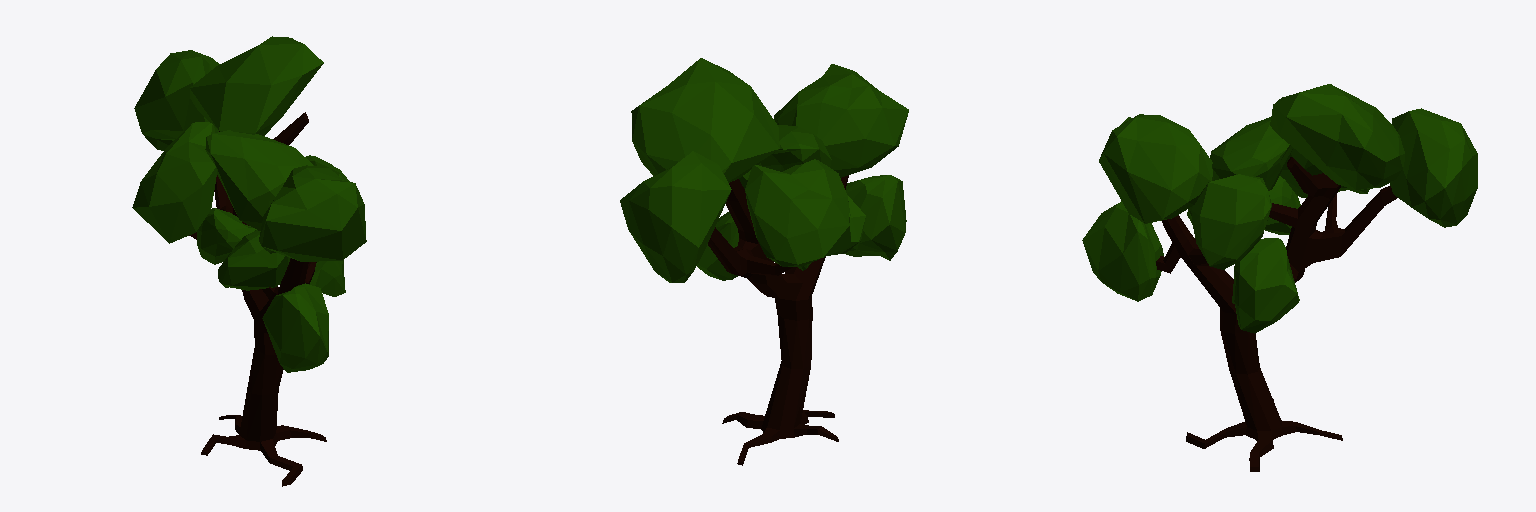
File: biggreentree.obj
3 views of the same model, side by side, from view 1: azimuth 30°, elevation 25°; view 2: azimuth 150°, elevation 25°; view 3: azimuth 270°, elevation 25° (orthographic).
Visible parts, largest first — view 1: t1-green_Cylinder.002; view 2: t1-green_Cylinder.002; view 3: t1-green_Cylinder.002.
Boxes of the visible parts, x1,y1,x2,y2 form: t1-green_Cylinder.002: [132, 36, 366, 486]; t1-green_Cylinder.002: [620, 58, 908, 465]; t1-green_Cylinder.002: [1082, 84, 1477, 471].
Bounding box in the file's own units: 6.06 × 11.75 × 11.01.